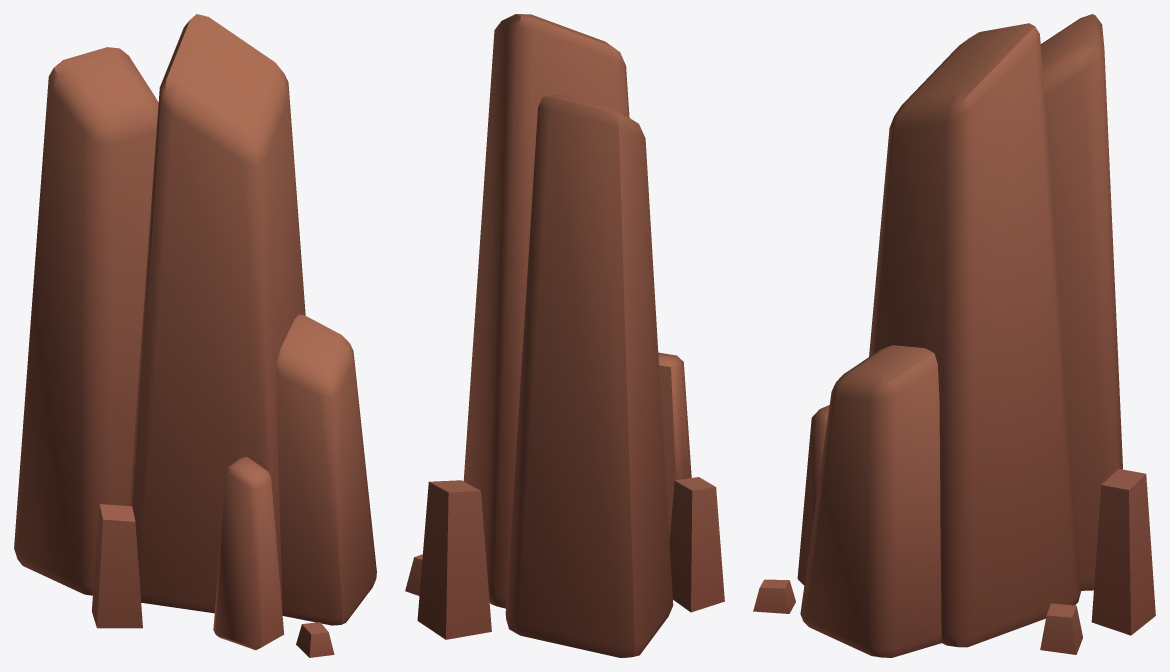
The model's file is Rock_4_H_Color2.fbx.
3 renders of one model, left to right at view 1: azimuth 30°, elevation 25°; view 2: azimuth 150°, elevation 25°; view 3: azimuth 270°, elevation 25°, orthographic. The views are drawn at different scales.
Parts seen in each view (by area): view 1: Rock_4_H_Color2; view 2: Rock_4_H_Color2; view 3: Rock_4_H_Color2.
Boxes of the visible parts, bbox=[...] form: Rock_4_H_Color2: bbox=[14, 14, 376, 657]; Rock_4_H_Color2: bbox=[405, 14, 724, 657]; Rock_4_H_Color2: bbox=[753, 14, 1155, 657].
Bounding box in the file's own units: 1.83 × 3.74 × 2.34.
